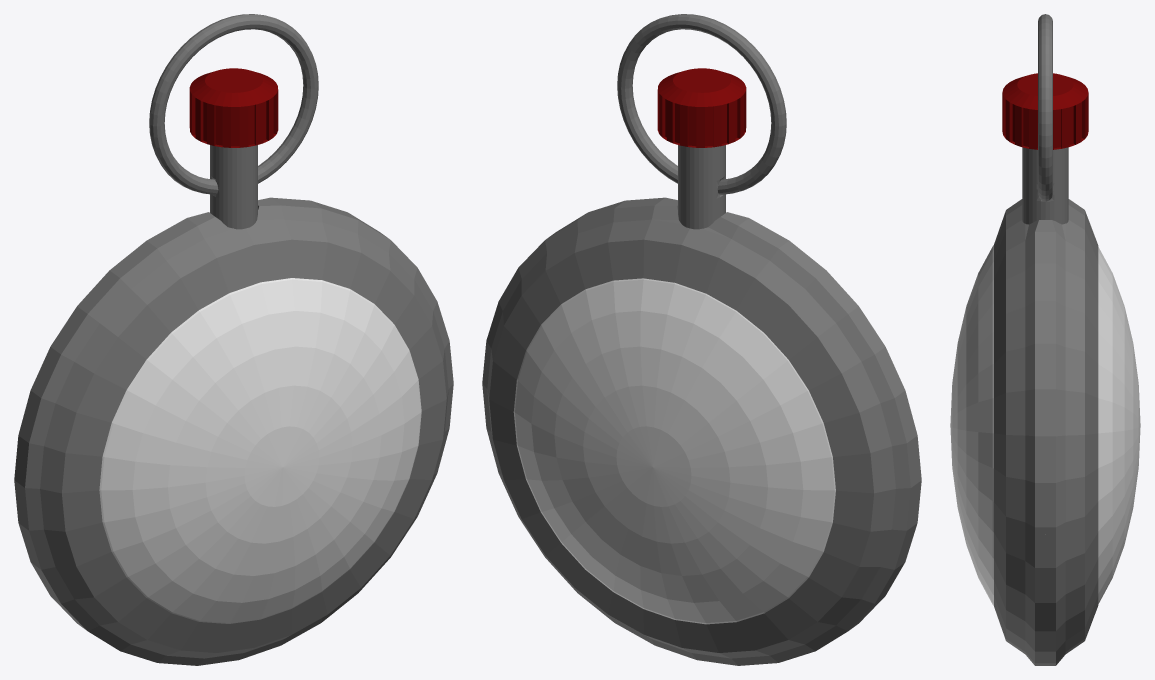
Rendered from timer.fbx.
3 views of the same model, side by side, from view 1: azimuth 30°, elevation 25°; view 2: azimuth 150°, elevation 25°; view 3: azimuth 270°, elevation 25° (orthographic). The views are drawn at different scales.
Visible parts, largest first — view 1: Sphere, Sphere.002, Circle; view 2: Sphere, Sphere.002, Circle; view 3: Sphere.002, Sphere, Circle.
Boxes of the visible parts, x1,y1,x2,y2 form: Sphere: (99, 278, 421, 623); Sphere.002: (14, 197, 453, 665); Circle: (149, 14, 318, 229); Sphere: (513, 278, 835, 624); Sphere.002: (482, 197, 921, 665); Circle: (617, 14, 786, 229); Sphere.002: (994, 199, 1098, 665); Sphere: (950, 245, 1140, 605); Circle: (1002, 14, 1088, 224).
Size of the model in its own units: 223 by 318 by 88.2.
